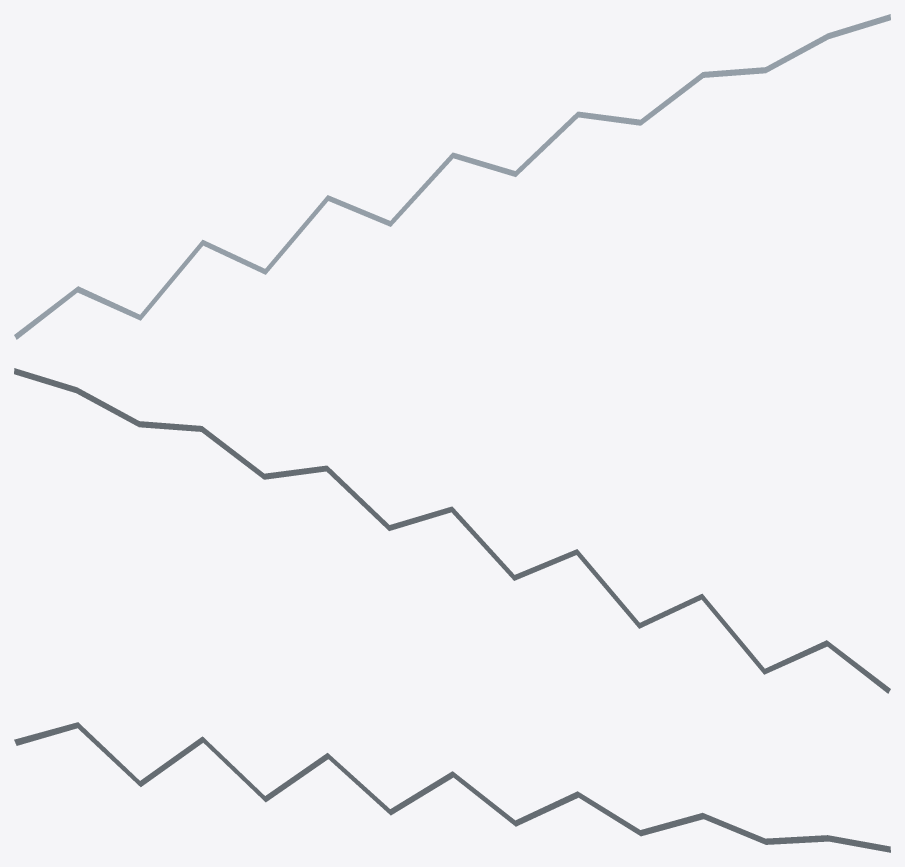
The model's file is 2029_HighVoltageArc_SynchronizedArc0Core.fbx.
The picture shows the model from 3 angles, top to bottom: view 1: azimuth 30°, elevation 25°; view 2: azimuth 150°, elevation 25°; view 3: azimuth 330°, elevation 25°; orthographic projection.
Parts seen in each view (by area): view 1: PART_SynchronizedArc0Core; view 2: PART_SynchronizedArc0Core; view 3: PART_SynchronizedArc0Core.
Part boxes in pixels (left/top/right/bottom): PART_SynchronizedArc0Core: left=14, top=14, right=890, bottom=339; PART_SynchronizedArc0Core: left=14, top=368, right=890, bottom=693; PART_SynchronizedArc0Core: left=14, top=722, right=890, bottom=852.
Bounding box in the file's own units: 350 × 47.19 × 7.69e-06.
